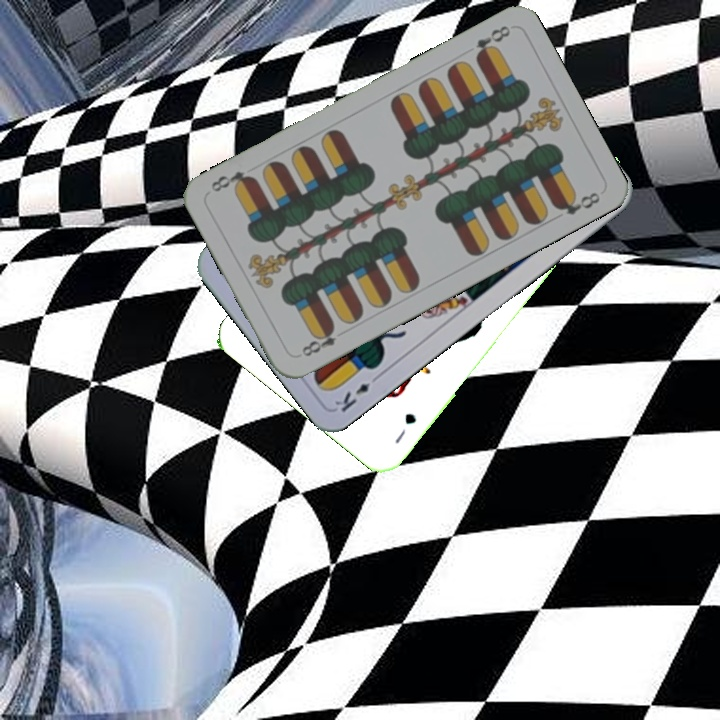E8: (471, 21, 513, 63), (297, 321, 339, 360)
EK: (330, 370, 383, 416)
GU: (391, 409, 419, 447)
